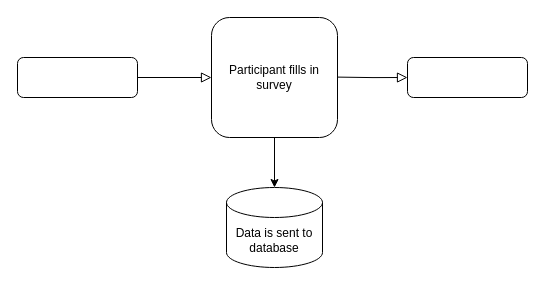
Some shapes in this 545 by 285 pixel diagram are drawn without their labels. The shapes that lost their labels are listed below. From the top down, each one's box as (x1, y1, x2, y2) in pixels, then its label:
(16, 56, 138, 98): Participant enters access code
(406, 56, 528, 98): Display page
